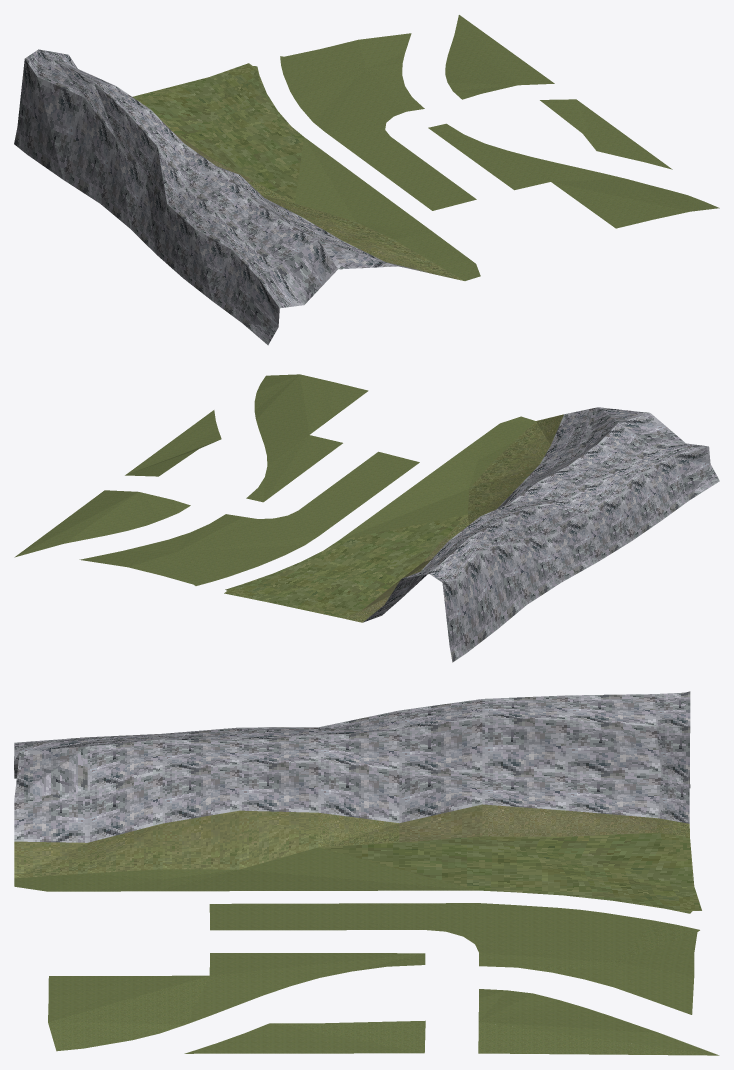
The model's file is lodecoast02.obj.
3 renders of one model, top to bottom at view 1: azimuth 30°, elevation 25°; view 2: azimuth 150°, elevation 25°; view 3: azimuth 270°, elevation 25°, orthographic. The views are drawn at different scales.
Parts seen in each view (by area): view 1: lodEcoast02; view 2: lodEcoast02; view 3: lodEcoast02.
Boxes of the visible parts, left/top/right/bottom form: lodEcoast02: left=14, top=15, right=719, bottom=345; lodEcoast02: left=14, top=374, right=719, bottom=662; lodEcoast02: left=14, top=691, right=719, bottom=1055.
Bounding box in the file's own units: 254 × 46.06 × 262.
6 materials, 6 textured.
